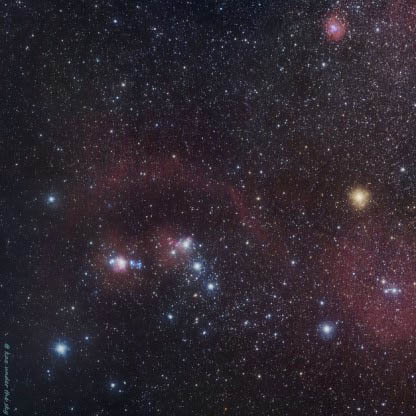Orion: (340, 179, 374, 207), (313, 316, 344, 345), (46, 332, 74, 361), (40, 186, 65, 210), (193, 274, 220, 296), (175, 234, 203, 254), (182, 256, 206, 275)
